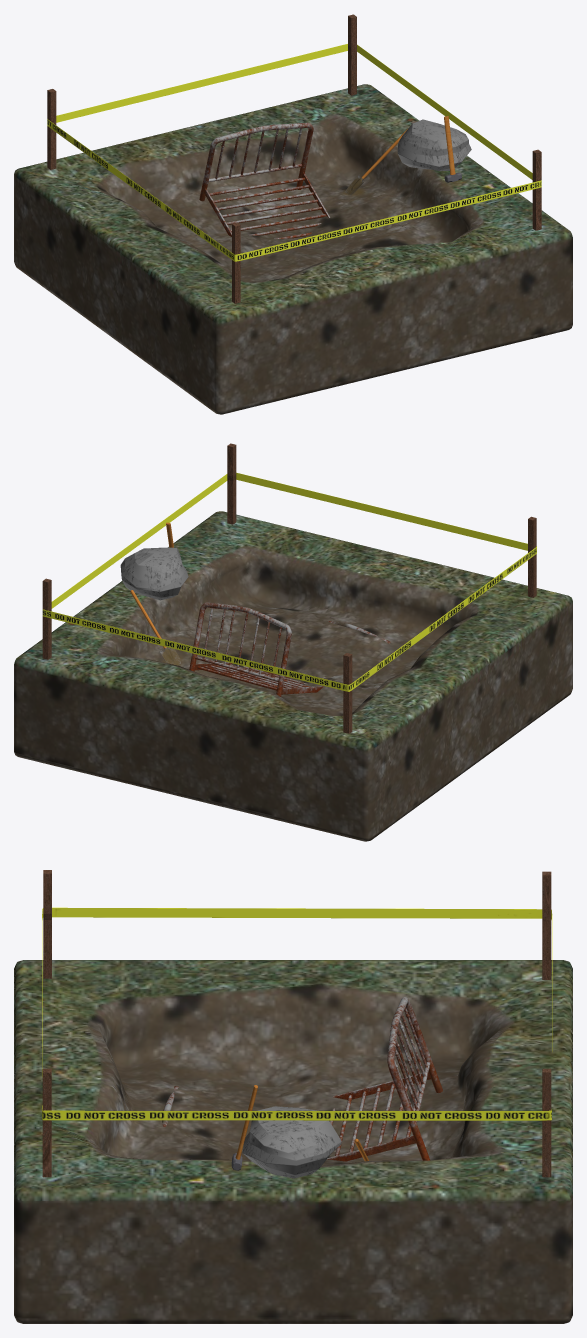
3 views of the same model, one above another, from view 1: azimuth 30°, elevation 25°; view 2: azimuth 150°, elevation 25°; view 3: azimuth 270°, elevation 25° (orthographic). The views are drawn at different scales.
Visible parts, largest first — view 1: Ground_Low, Tape_Low, Bed_Frame_Low, Rock_Low, Stake1_Low, Stake3_Low, Stake2_Low, Stake4_Low; view 2: Ground_Low, Tape_Low, Bed_Frame_Low, Rock_Low, Stake1_Low, Stake2_Low, Stake3_Low, Stake4_Low; view 3: Ground_Low, Tape_Low, Bed_Frame_Low, Rock_Low, Stake3_Low, Stake1_Low, Stake2_Low, Stake4_Low.
Part boxes in pixels (x1=…): Ground_Low: x1=14, y1=84, x2=572, y2=414; Tape_Low: x1=47, y1=44, x2=541, y2=261; Bed_Frame_Low: x1=199, y1=122, x2=330, y2=236; Rock_Low: x1=397, y1=119, x2=471, y2=170; Stake1_Low: x1=532, y1=149, x2=541, y2=230; Stake3_Low: x1=47, y1=89, x2=56, y2=169; Stake2_Low: x1=348, y1=14, x2=356, y2=95; Stake4_Low: x1=232, y1=222, x2=240, y2=303; Ground_Low: x1=14, y1=511, x2=572, y2=841; Tape_Low: x1=42, y1=472, x2=536, y2=691; Bed_Frame_Low: x1=189, y1=602, x2=390, y2=696; Rock_Low: x1=120, y1=547, x2=188, y2=600; Stake1_Low: x1=227, y1=443, x2=236, y2=524; Stake2_Low: x1=42, y1=578, x2=51, y2=659; Stake3_Low: x1=343, y1=653, x2=352, y2=733; Stake4_Low: x1=528, y1=516, x2=536, y2=597; Ground_Low: x1=14, y1=960, x2=572, y2=1323; Tape_Low: x1=42, y1=907, x2=552, y2=1120; Bed_Frame_Low: x1=162, y1=997, x2=442, y2=1161; Rock_Low: x1=242, y1=1106, x2=341, y2=1178; Stake3_Low: x1=542, y1=871, x2=551, y2=979; Stake1_Low: x1=42, y1=1068, x2=51, y2=1177; Stake2_Low: x1=542, y1=1068, x2=551, y2=1177; Stake4_Low: x1=43, y1=870, x2=51, y2=978.
Size of the model in its own units: 472 by 226 by 472.
Materials: 1 (1 with a texture image).
